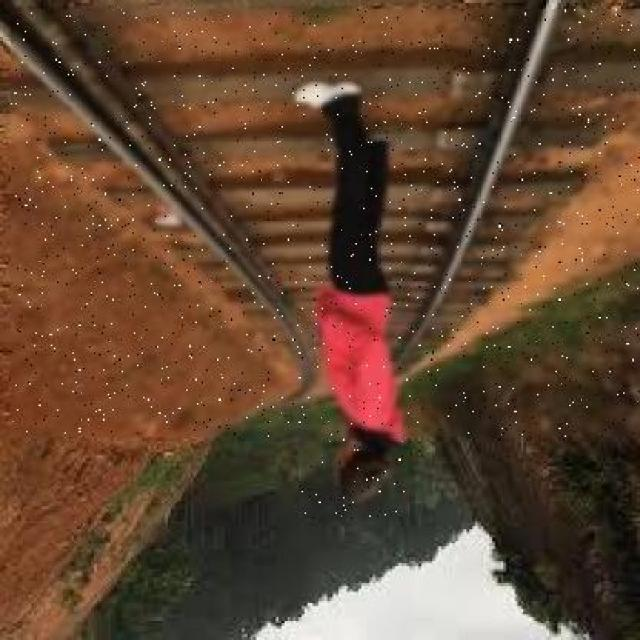danger: (298, 65, 408, 518)
rail: (11, 9, 640, 436)
